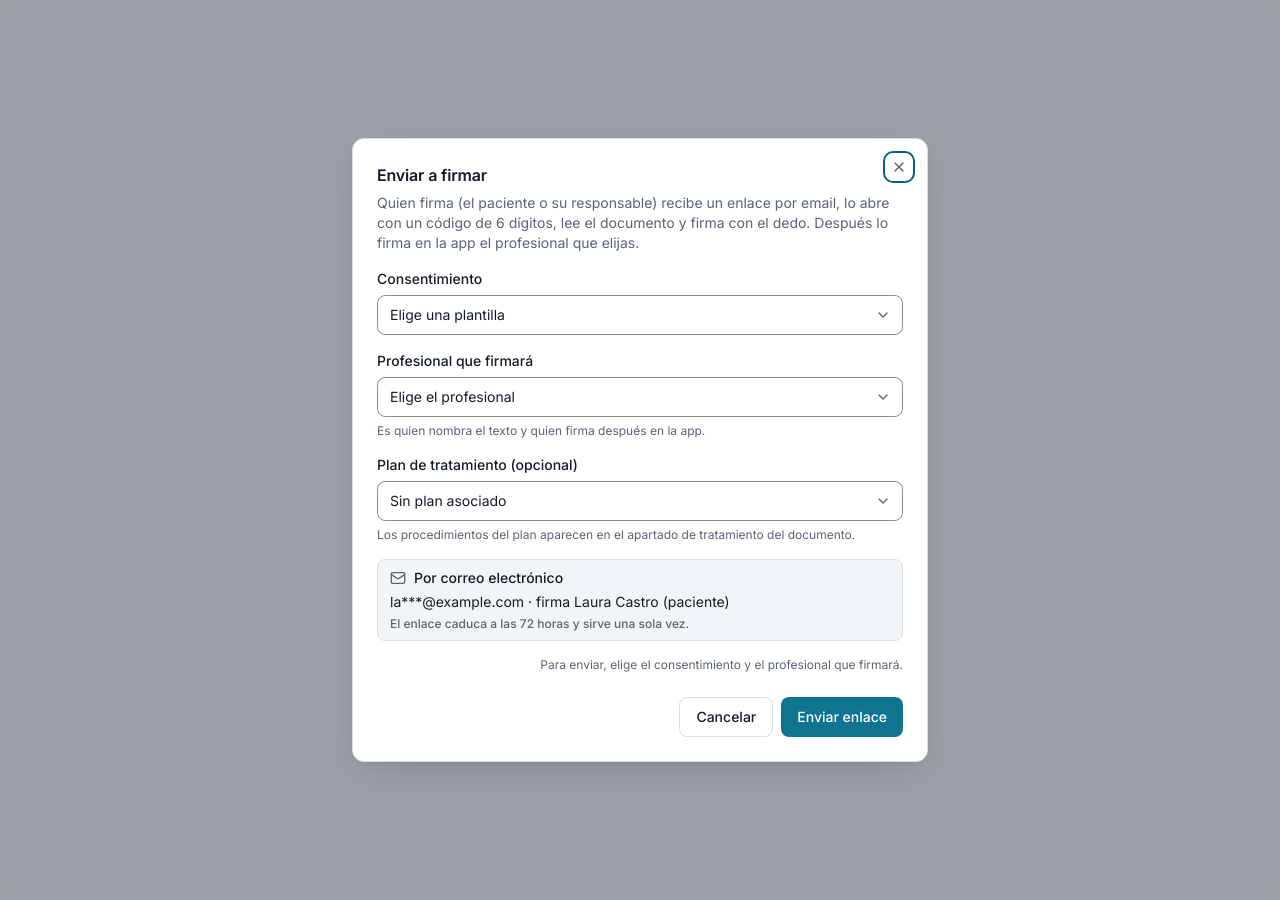
Test: SendToSignModal (DX-243) › sin plan, si la plantilla usa el tratamiento, avisa de que dirá «No especificado»; la ayuda no enseña la variable
This screenshot has width=1280, height=900.
Step 1. Select "Consentimiento informado — Exodoncia" in the dropdown labelled "Consentimiento" → (640, 315), box [377, 295, 903, 335]
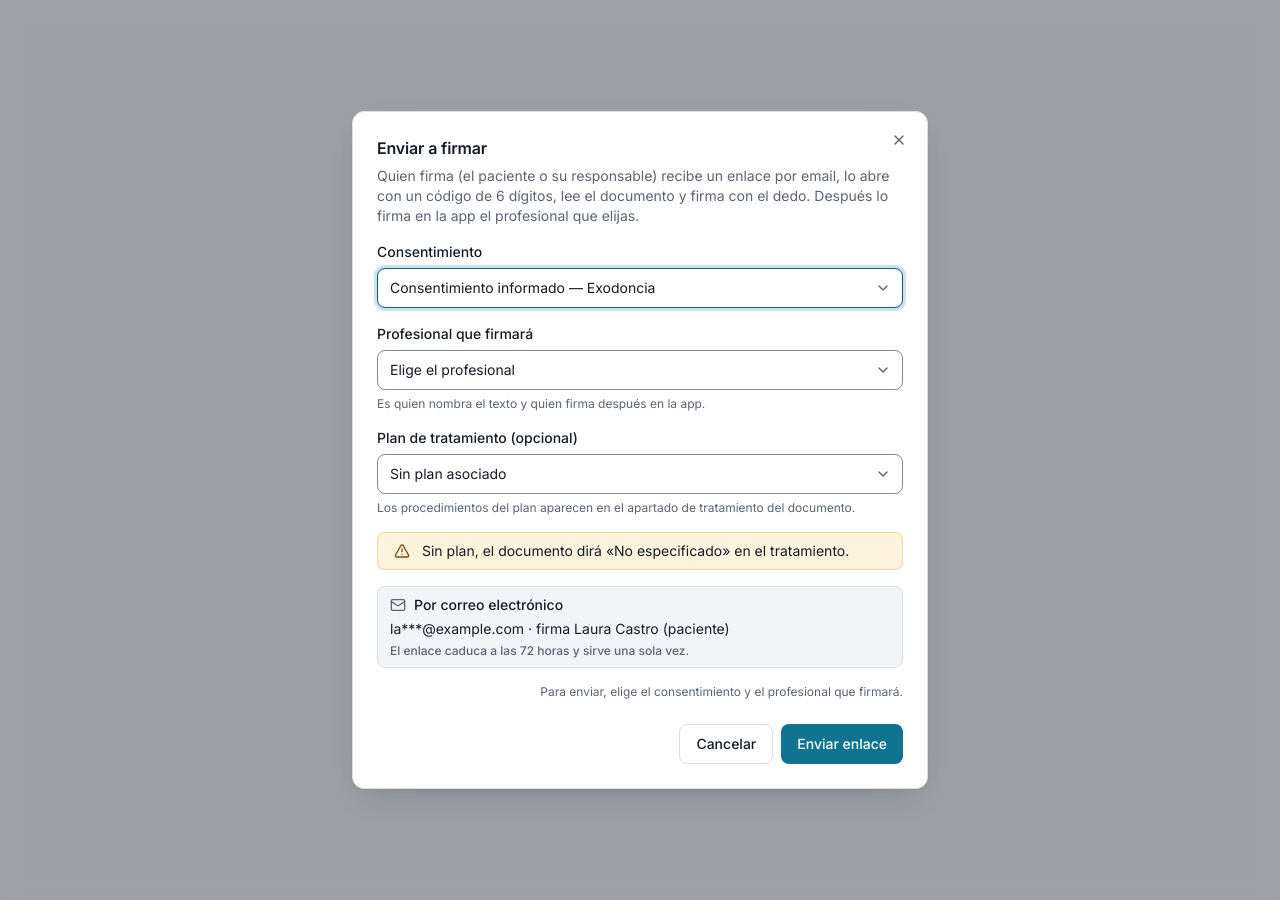
Result: the text "Sin plan, el documento dirá «No especificado» en el tratamiento." is shown at [422, 541, 886, 561]
Step 2. Select "Opción A: implante · Presentado · 01/09/2026" in the dropdown labelled "Plan de tratamiento (opcional)" → (640, 474), box [377, 454, 903, 494]
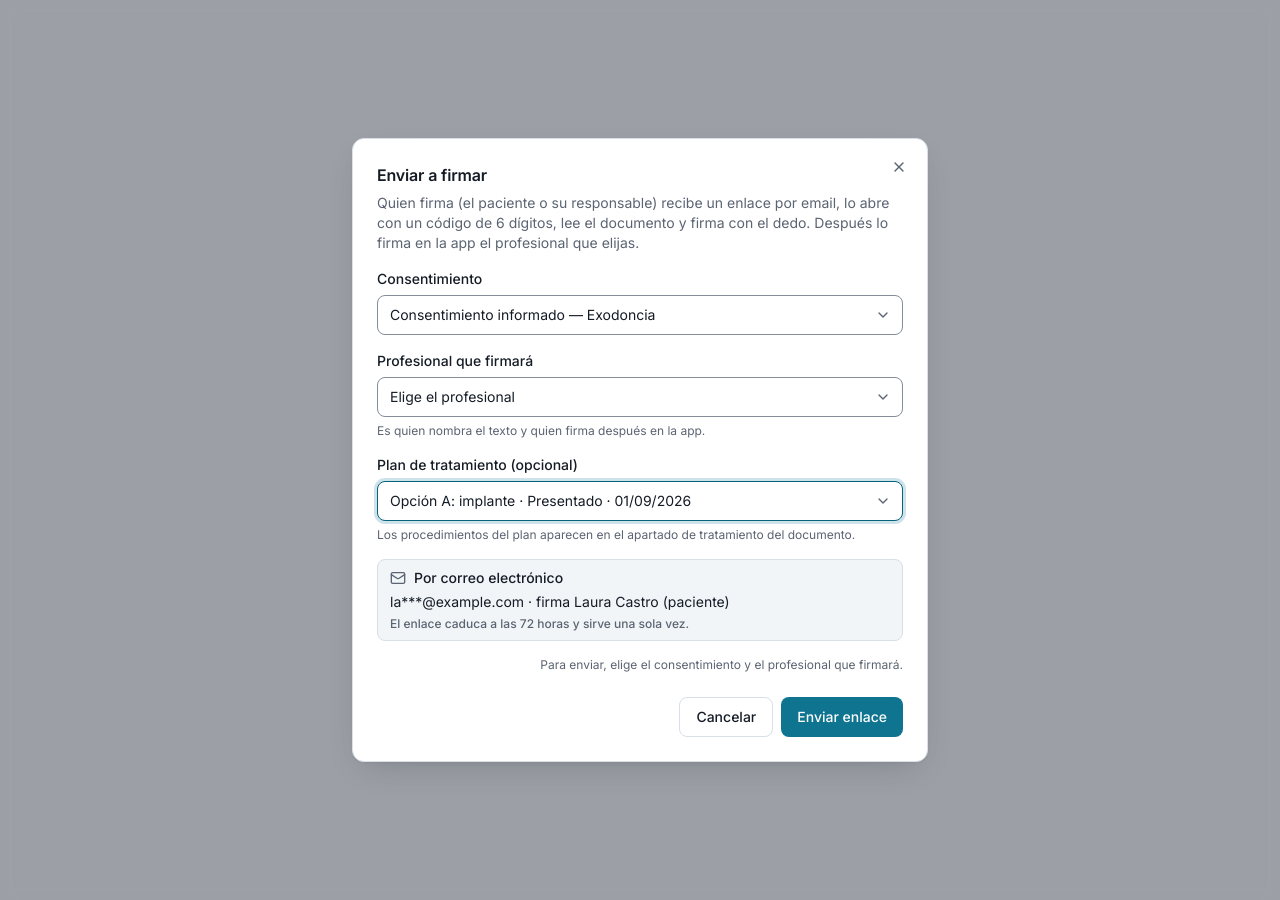
Result: the text "No especificado" is gone
